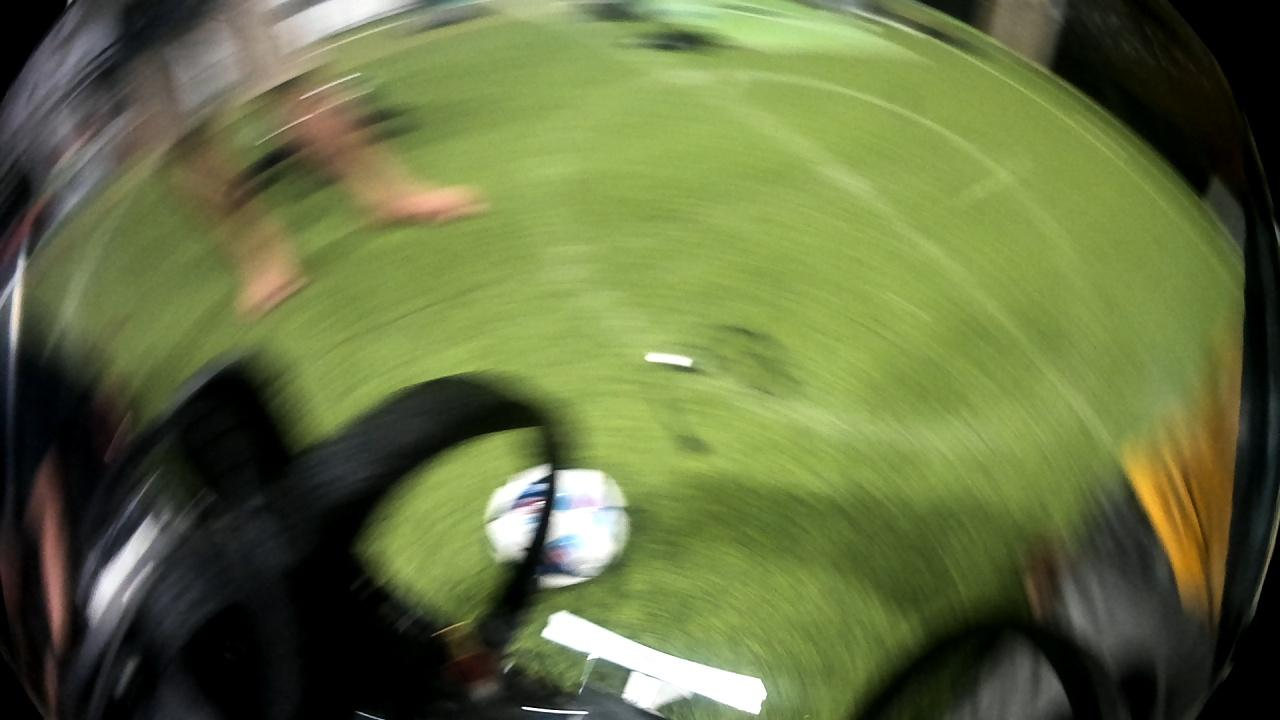ball: (479, 462, 637, 589)
